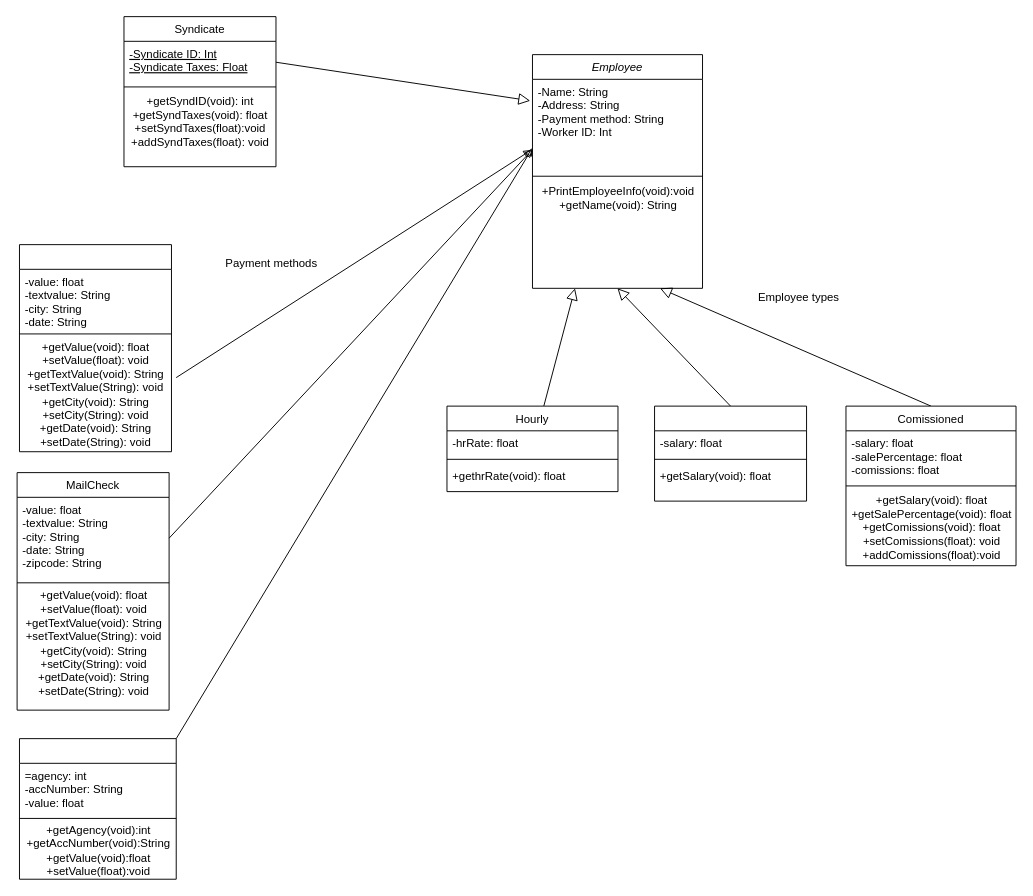
The diagram is 1033 pixels wide and 896 high, and some of its shapes have lost their labels. The shapes that lost their labels are listed below. From the top down, each one's box as (x1, y1, x2, y2) in pixels, then its label:
(19, 244, 171, 452): Check
(654, 405, 807, 501): Salaried
(19, 738, 176, 879): Deposit
